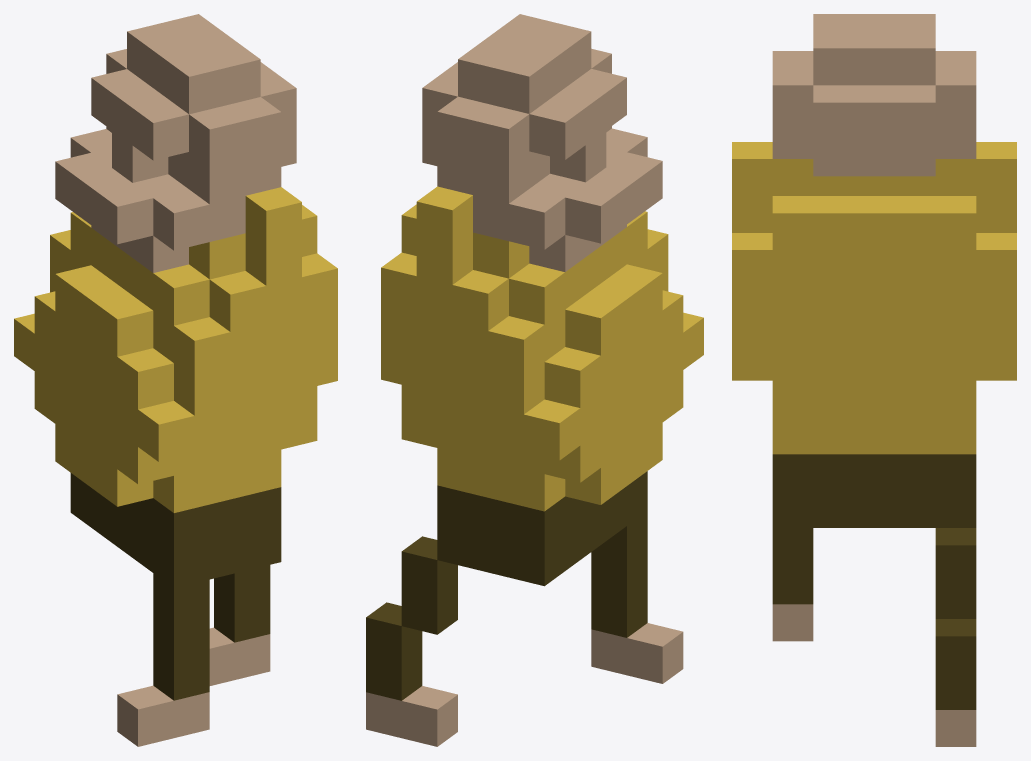
Rendered from orc-6-torso_walk.obj.
3 renders of one model, left to right at view 1: azimuth 30°, elevation 25°; view 2: azimuth 150°, elevation 25°; view 3: azimuth 270°, elevation 25°, orthographic.
Visible parts, largest first — view 1: torso_walk; view 2: torso_walk; view 3: torso_walk.
Part boxes in pixels (x1=…): torso_walk: x1=14, y1=14, x2=337, y2=746; torso_walk: x1=366, y1=14, x2=703, y2=746; torso_walk: x1=732, y1=14, x2=1016, y2=746.
Bounding box in the file's own units: 0.6 × 1.8 × 0.7.
1 material, 1 textured.
